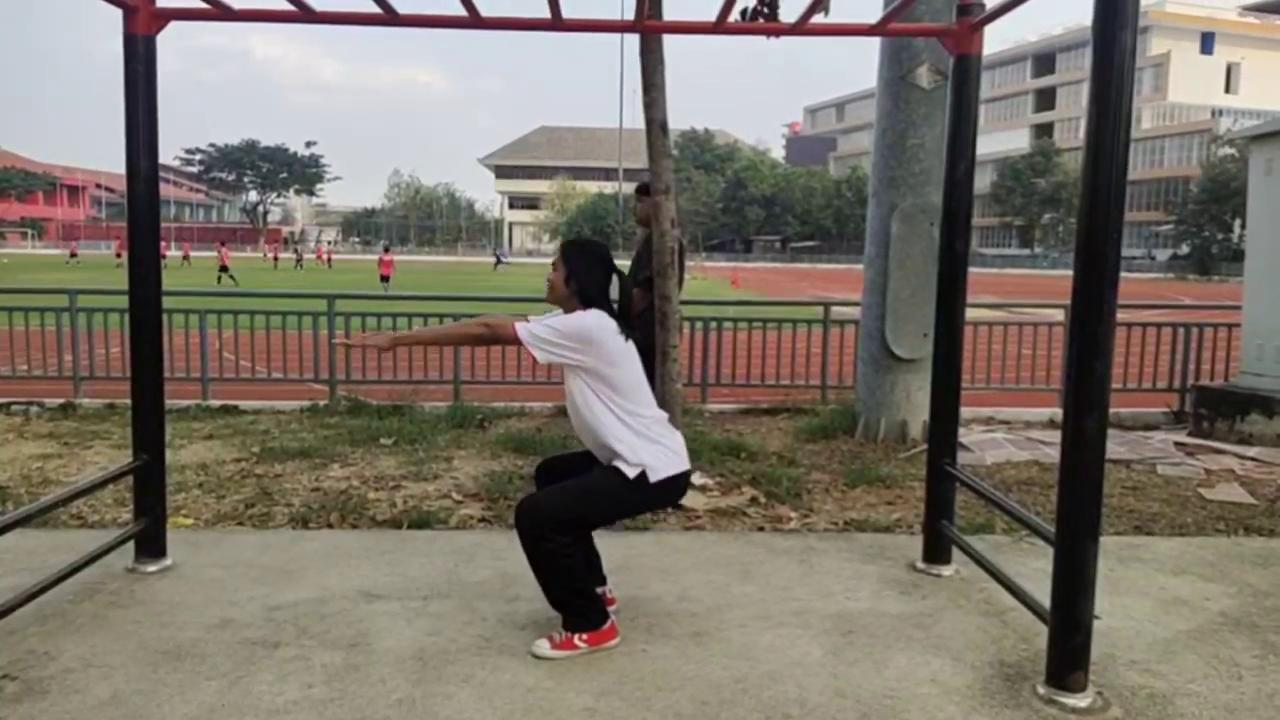squat down: (344, 240, 691, 660)
